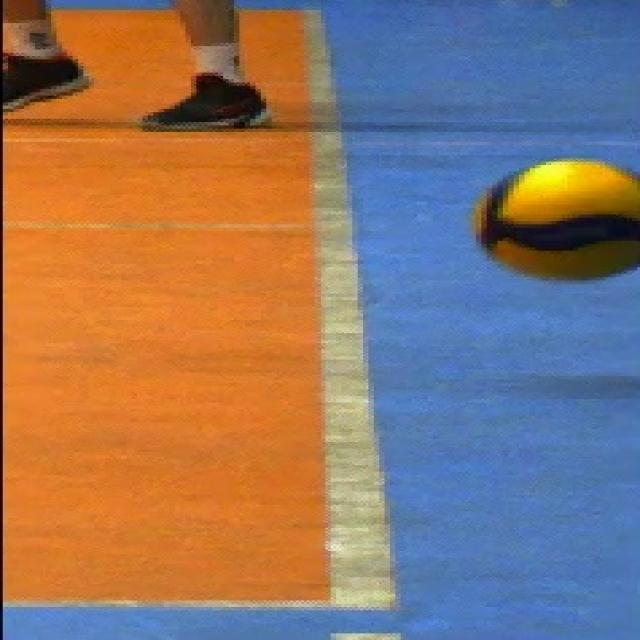Volleyball: (473, 155, 640, 282)
